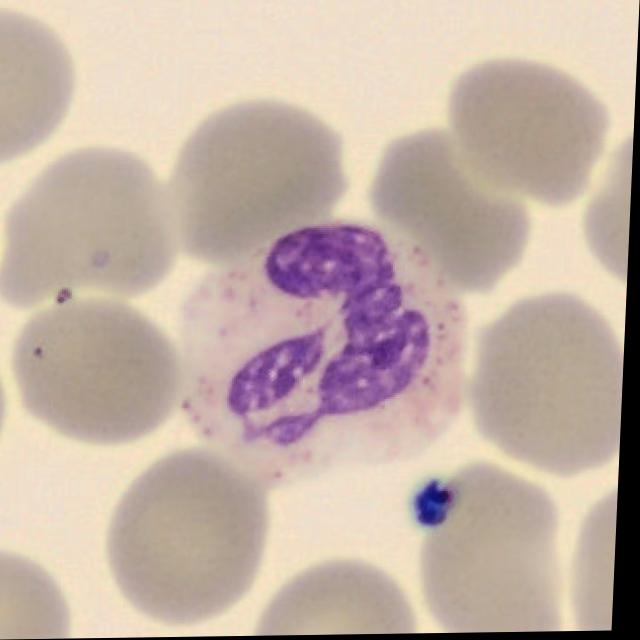Neutrofilo segmentado: (183, 221, 469, 487)
